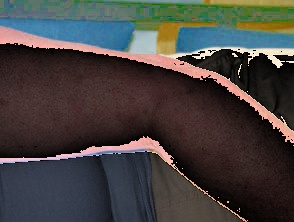SJS-TEN: (0, 13, 294, 222)
